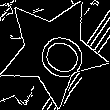O_NW: (21, 20, 86, 83)
